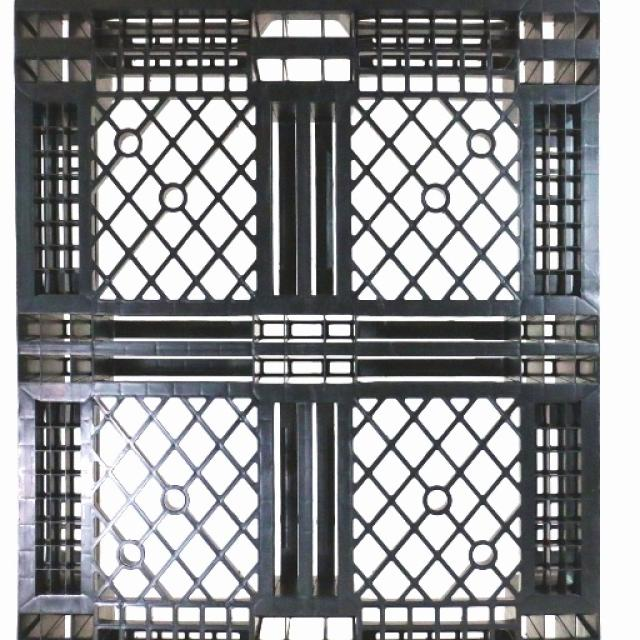non-igps: (8, 0, 610, 640)
